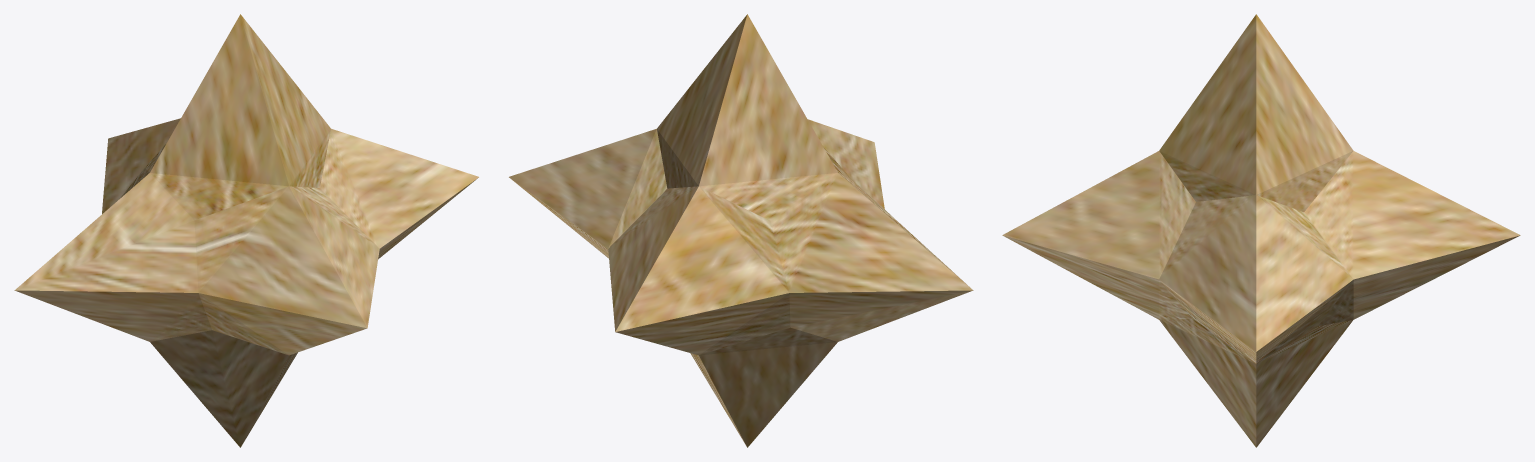
Rendered from toge.obj.
3 renders of one model, left to right at view 1: azimuth 30°, elevation 25°; view 2: azimuth 150°, elevation 25°; view 3: azimuth 270°, elevation 25°, orthographic.
Visible parts, largest first — view 1: Cube; view 2: Cube; view 3: Cube.
Part boxes in pixels (left/top/right/bottom): Cube: left=14, top=14, right=478, bottom=447; Cube: left=509, top=14, right=973, bottom=447; Cube: left=1002, top=14, right=1520, bottom=447.
Size of the model in its own units: 0.7599 by 0.6775 by 0.7342.
Materials: 1 (1 with a texture image).
